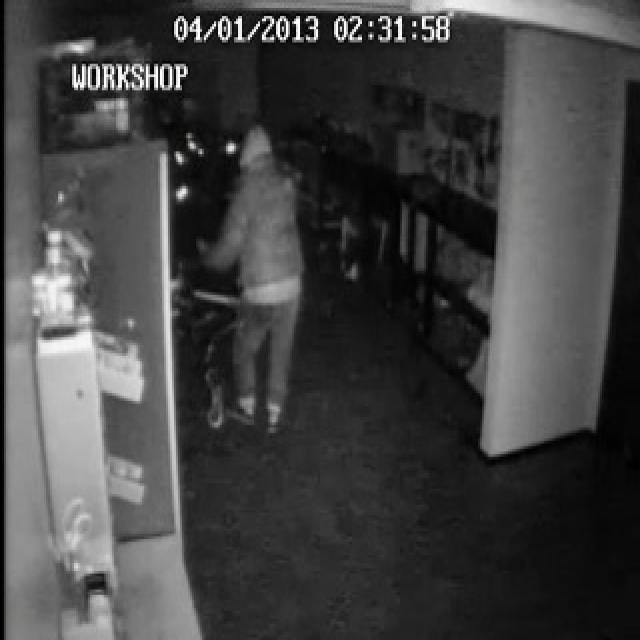thief: (217, 110, 310, 430)
